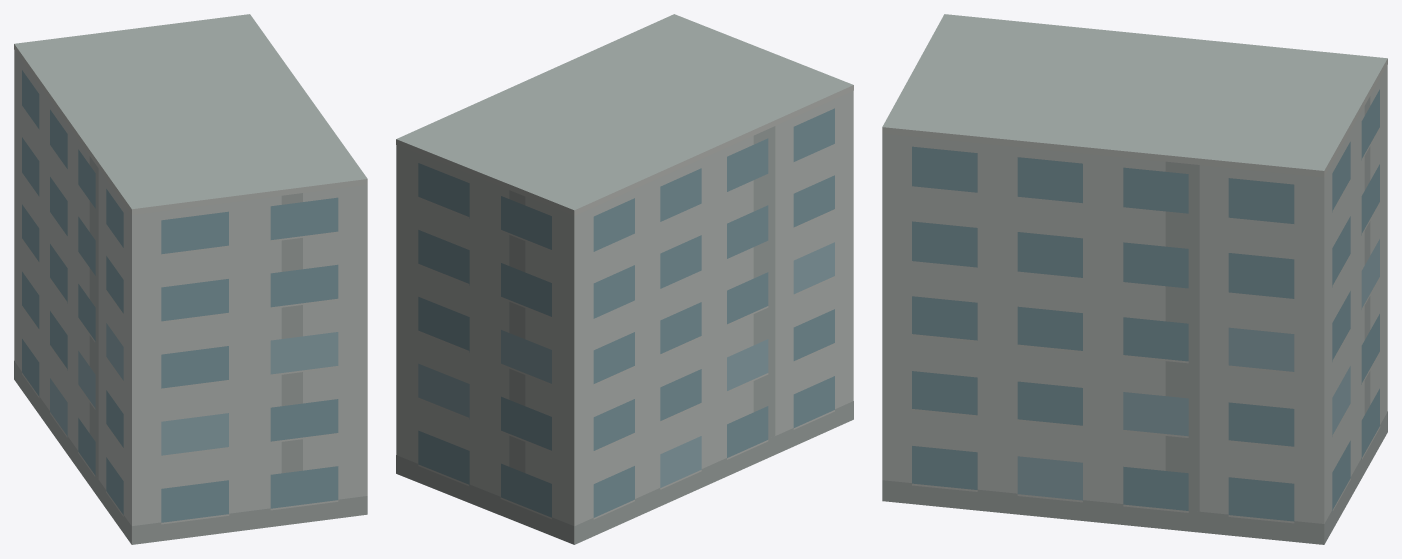
Rendered from survey-upis-32850266.glb.
The picture shows the model from 3 angles, left to right: view 1: azimuth 30°, elevation 25°; view 2: azimuth 150°, elevation 25°; view 3: azimuth 270°, elevation 25°; orthographic projection. The views are drawn at different scales.
Visible parts, largest first — view 1: survey-upis-32850266.tmp; view 2: survey-upis-32850266.tmp; view 3: survey-upis-32850266.tmp.
Boxes of the visible parts, x1,y1,x2,y2 form: survey-upis-32850266.tmp: [14, 14, 367, 544]; survey-upis-32850266.tmp: [396, 14, 853, 544]; survey-upis-32850266.tmp: [882, 14, 1387, 544].
Size of the model in its own units: 12.79 by 14.2 by 17.41.
